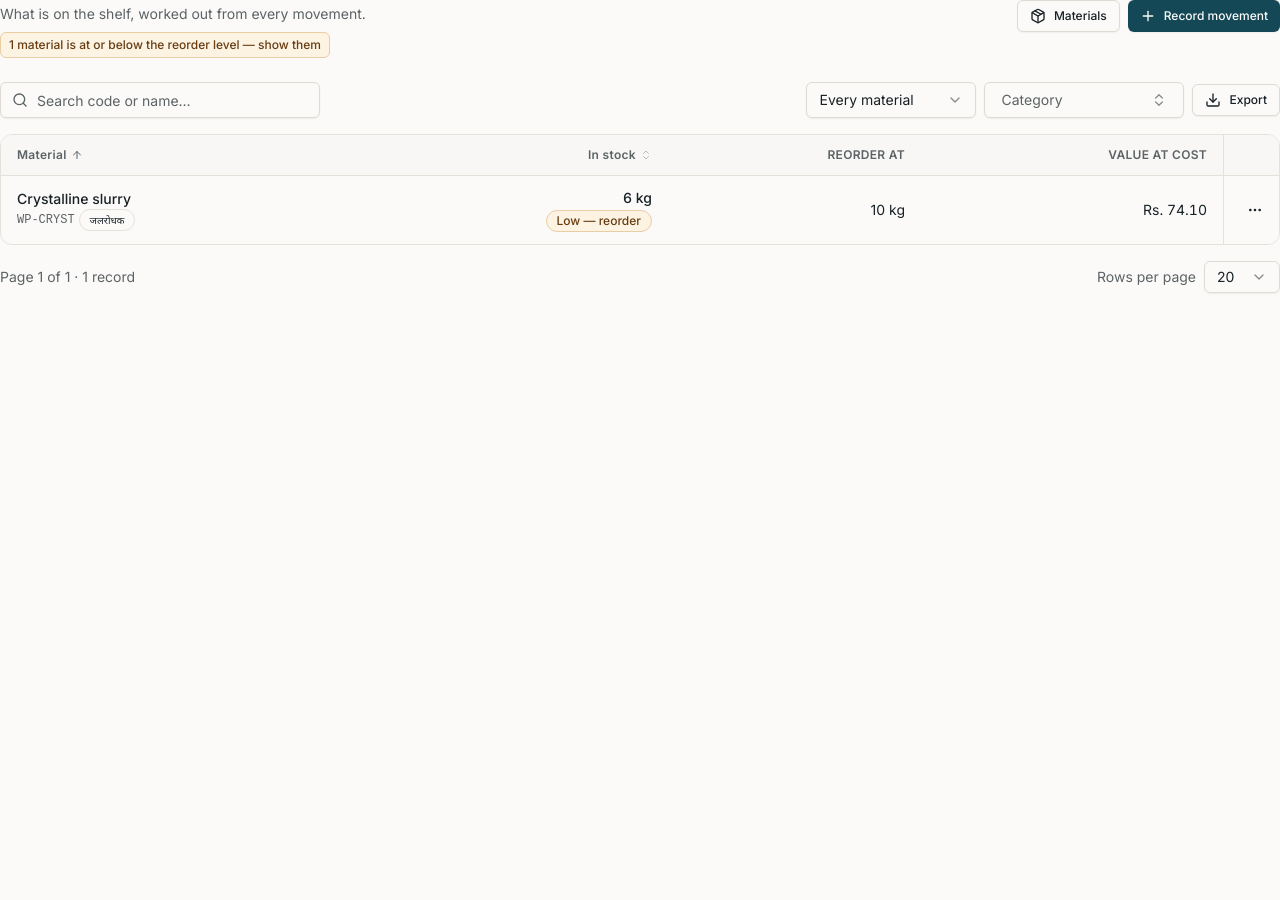
Test case: StockPage › shows the balance, the low flag and a material’s movements
The width and height of the screenshot is (1280, 900).
Expected: the text "6 kg" is shown, [623,188,652,208]
Expected: the text "Low — reorder" is shown, [546,210,652,232]
Click the text "Crystalline slurry" at (74, 198), box [17,190,131,206]
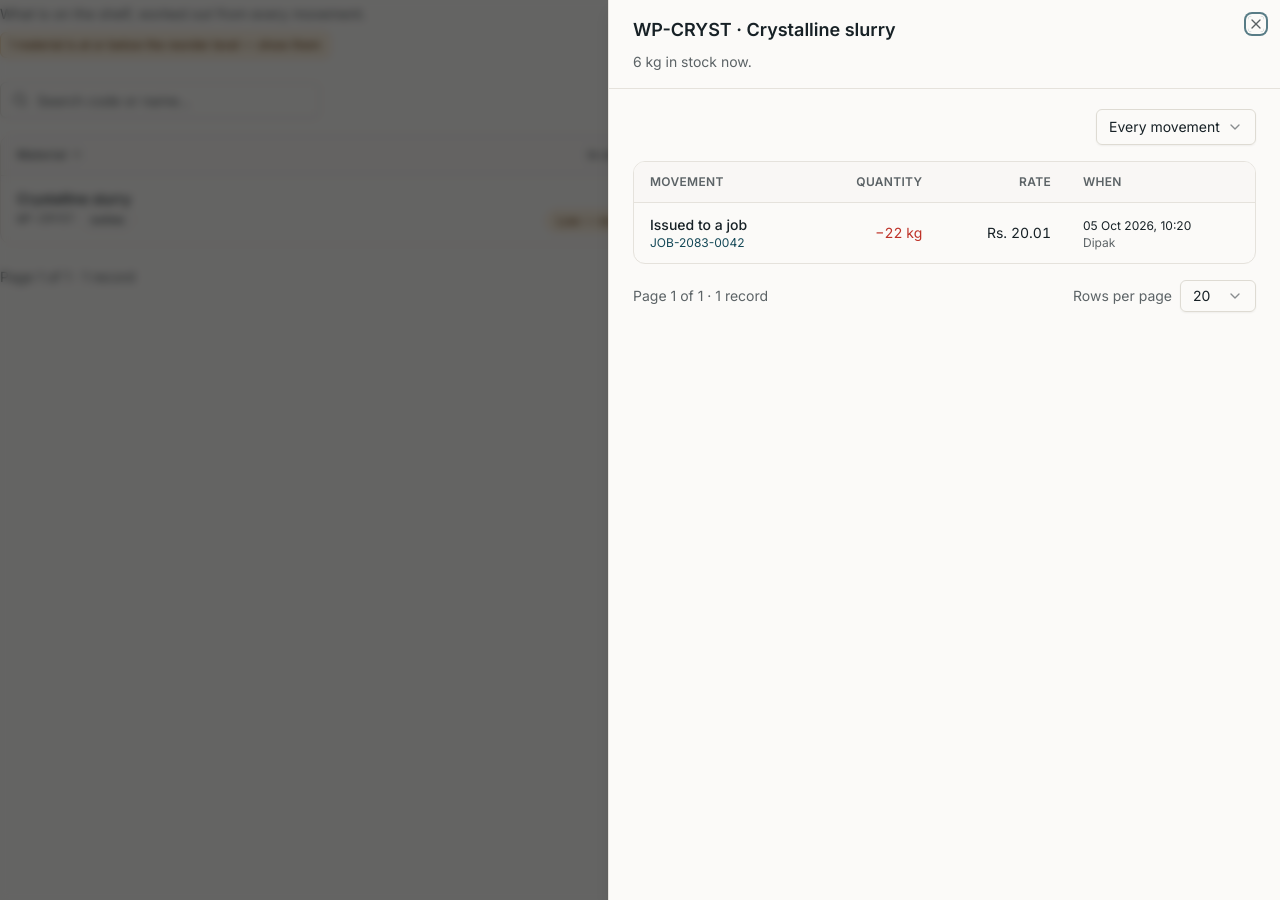
Now the text "−22 kg" is shown, box [875,224,922,240]
Now the text "6 kg in stock now." is shown, box [633,53,752,70]
